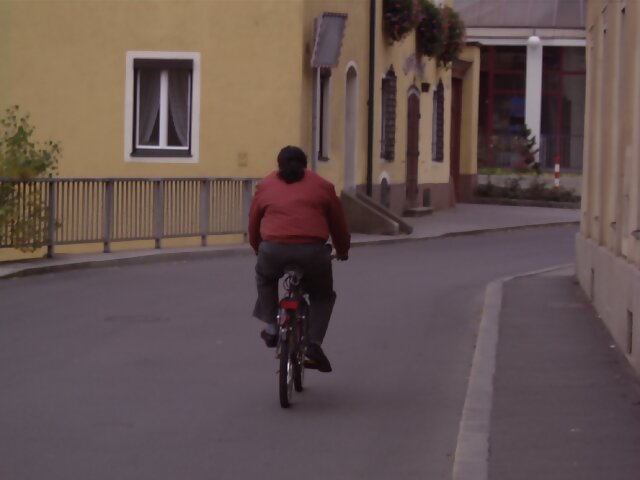person: (242, 141, 353, 376)
